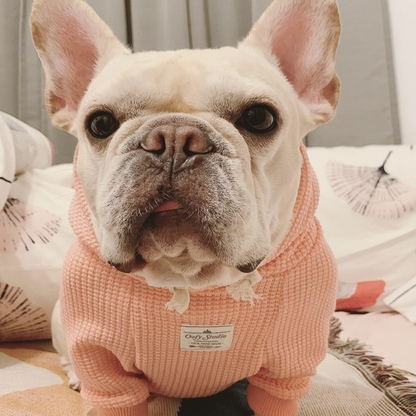bulldog: (29, 1, 343, 416)
